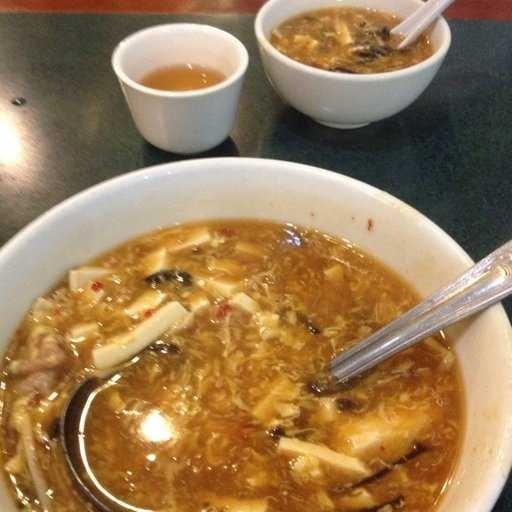soup: (4, 177, 484, 507)
